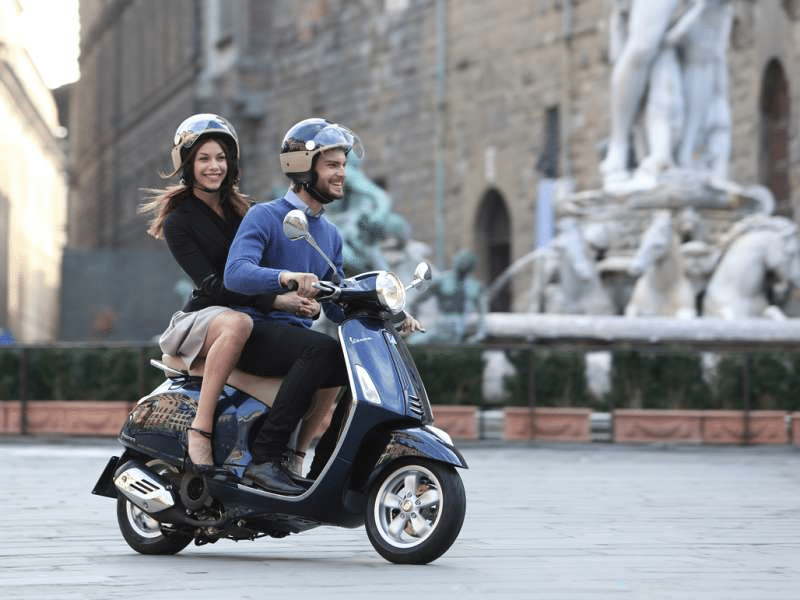with_helmet: (274, 116, 365, 173), (175, 116, 237, 162)
